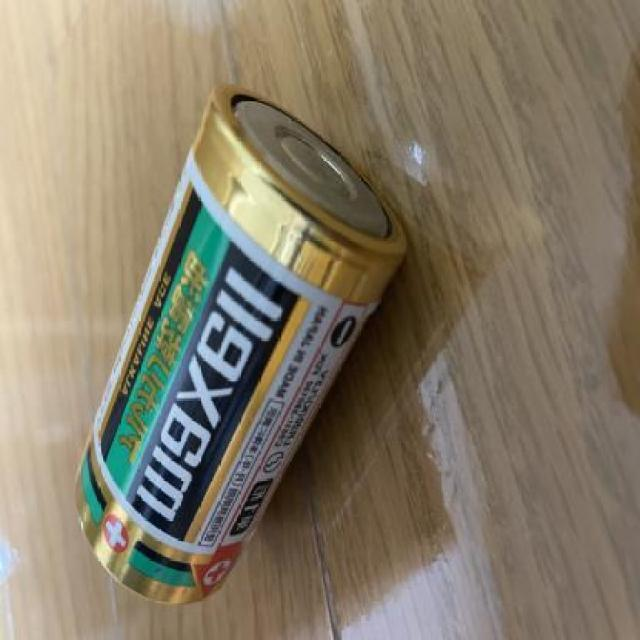hazardous waste: (68, 77, 417, 611)
